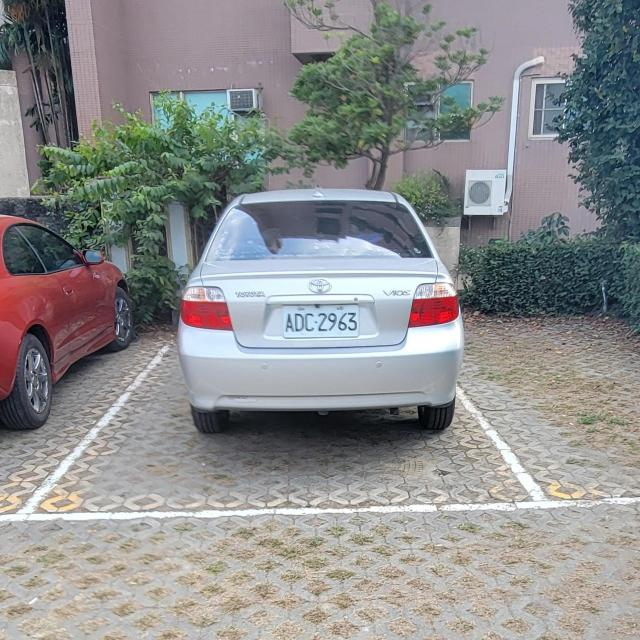W: (282, 302, 360, 339)
